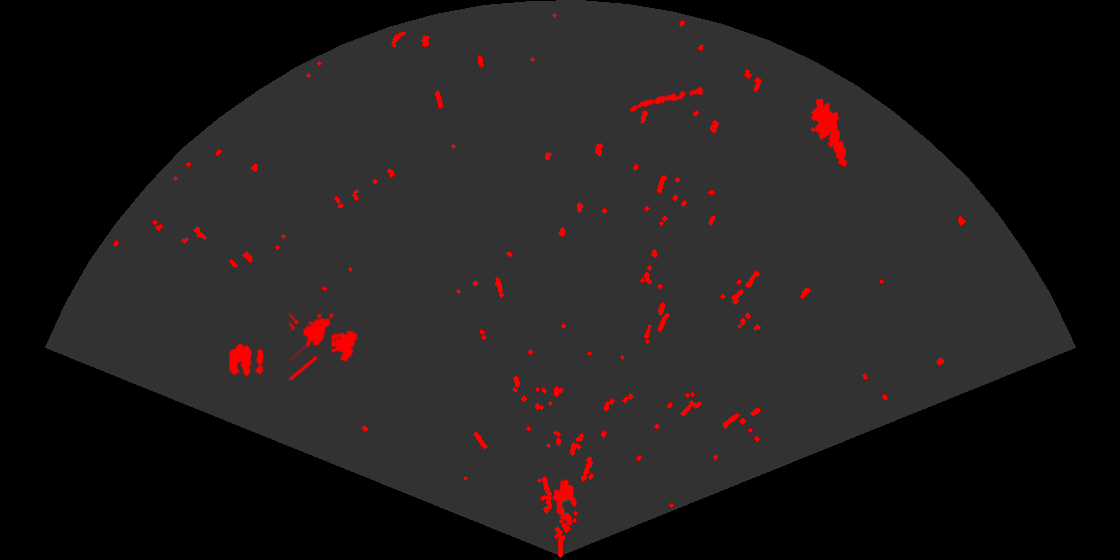AUV: (551, 477, 579, 527)
ball: (227, 342, 265, 378)
cage: (289, 310, 359, 380)
chain: (628, 85, 705, 113)
frogman: (809, 99, 848, 167)
